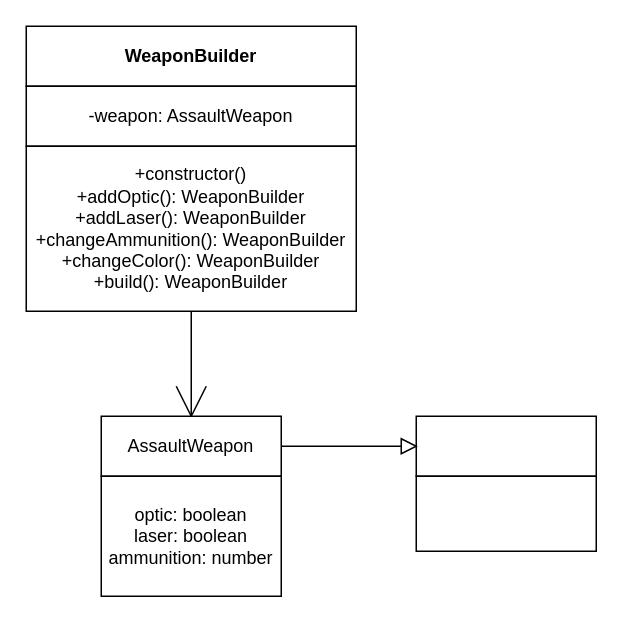
This 623x623 diagram has some shape labels left out. Here are the shapes that lost their labels. From the top down, the centre of each, then its label:
point 505,445: Weapon
point 505,513: +fire(): str +reloading(): str
